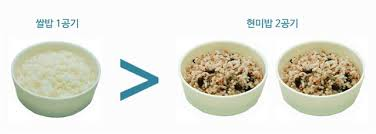ssalbab: (14, 46, 99, 98)
